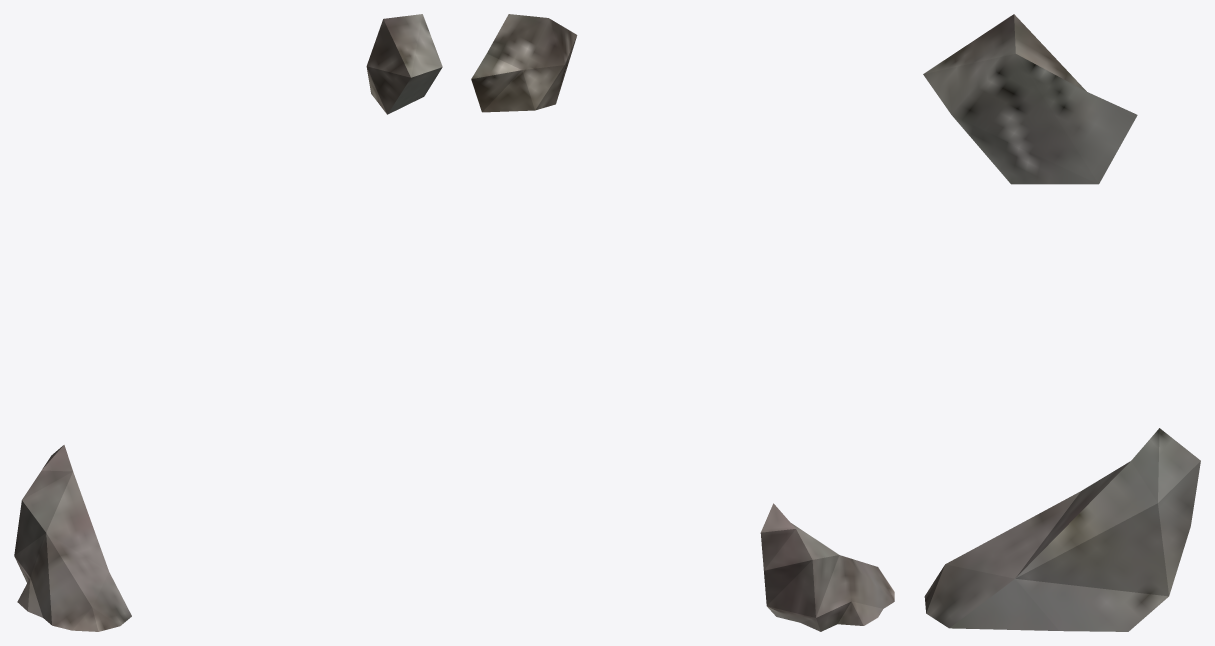
3 renders of one model, left to right at view 1: azimuth 30°, elevation 25°; view 2: azimuth 150°, elevation 25°; view 3: azimuth 270°, elevation 25°, orthographic. The views are drawn at different scales.
Size of the model in its own units: 0.1857 by 0.2374 by 0.0724.
1 material, 1 textured.
